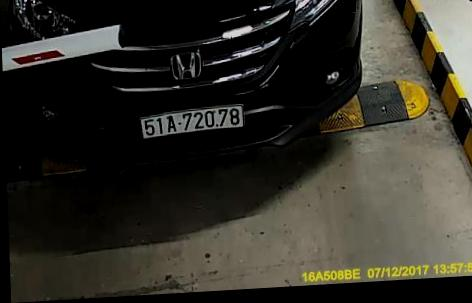License_Plate: (135, 103, 248, 143)
